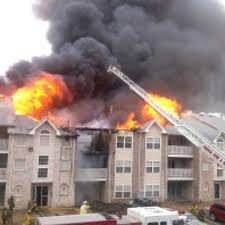smoke: (32, 2, 225, 123)
